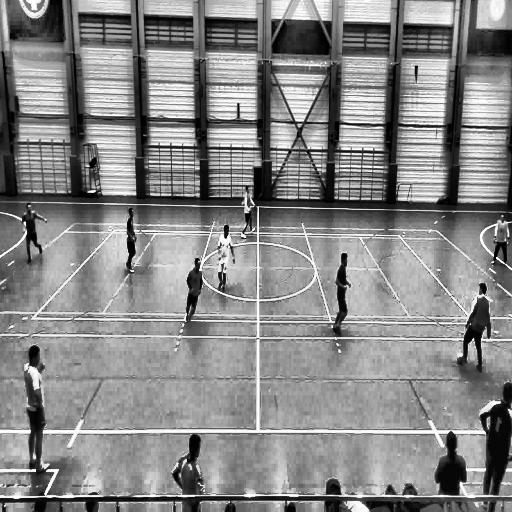ball: (457, 353, 464, 364)
player: (479, 386, 512, 512), (24, 342, 54, 472), (461, 281, 494, 372), (171, 435, 205, 512), (20, 202, 46, 265), (332, 253, 350, 335), (217, 225, 234, 292), (184, 258, 202, 321), (491, 213, 510, 264), (126, 206, 140, 274), (237, 189, 254, 242)
